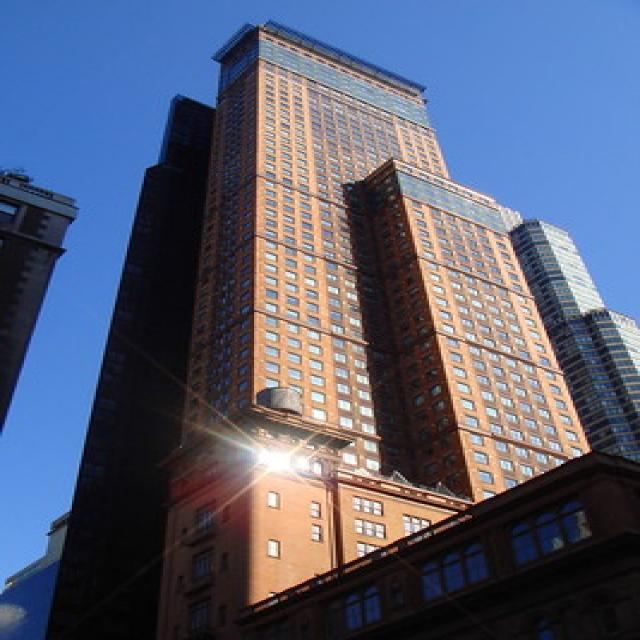Normal_building: (62, 16, 626, 635)
